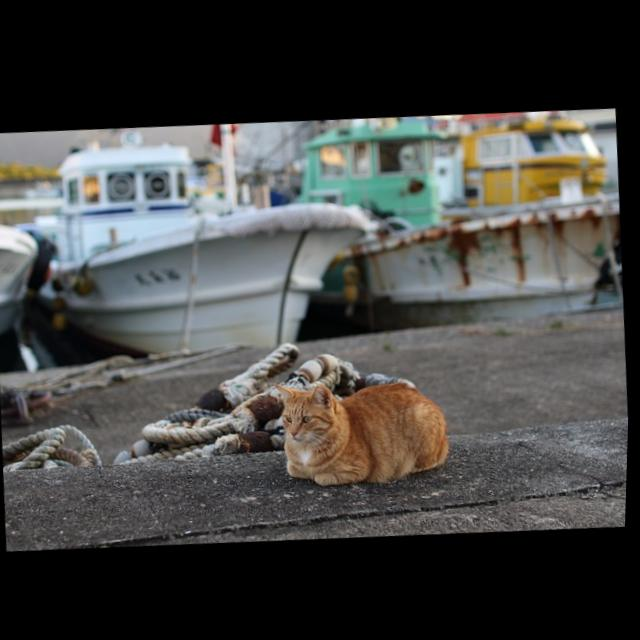animals: (271, 377, 454, 489)
